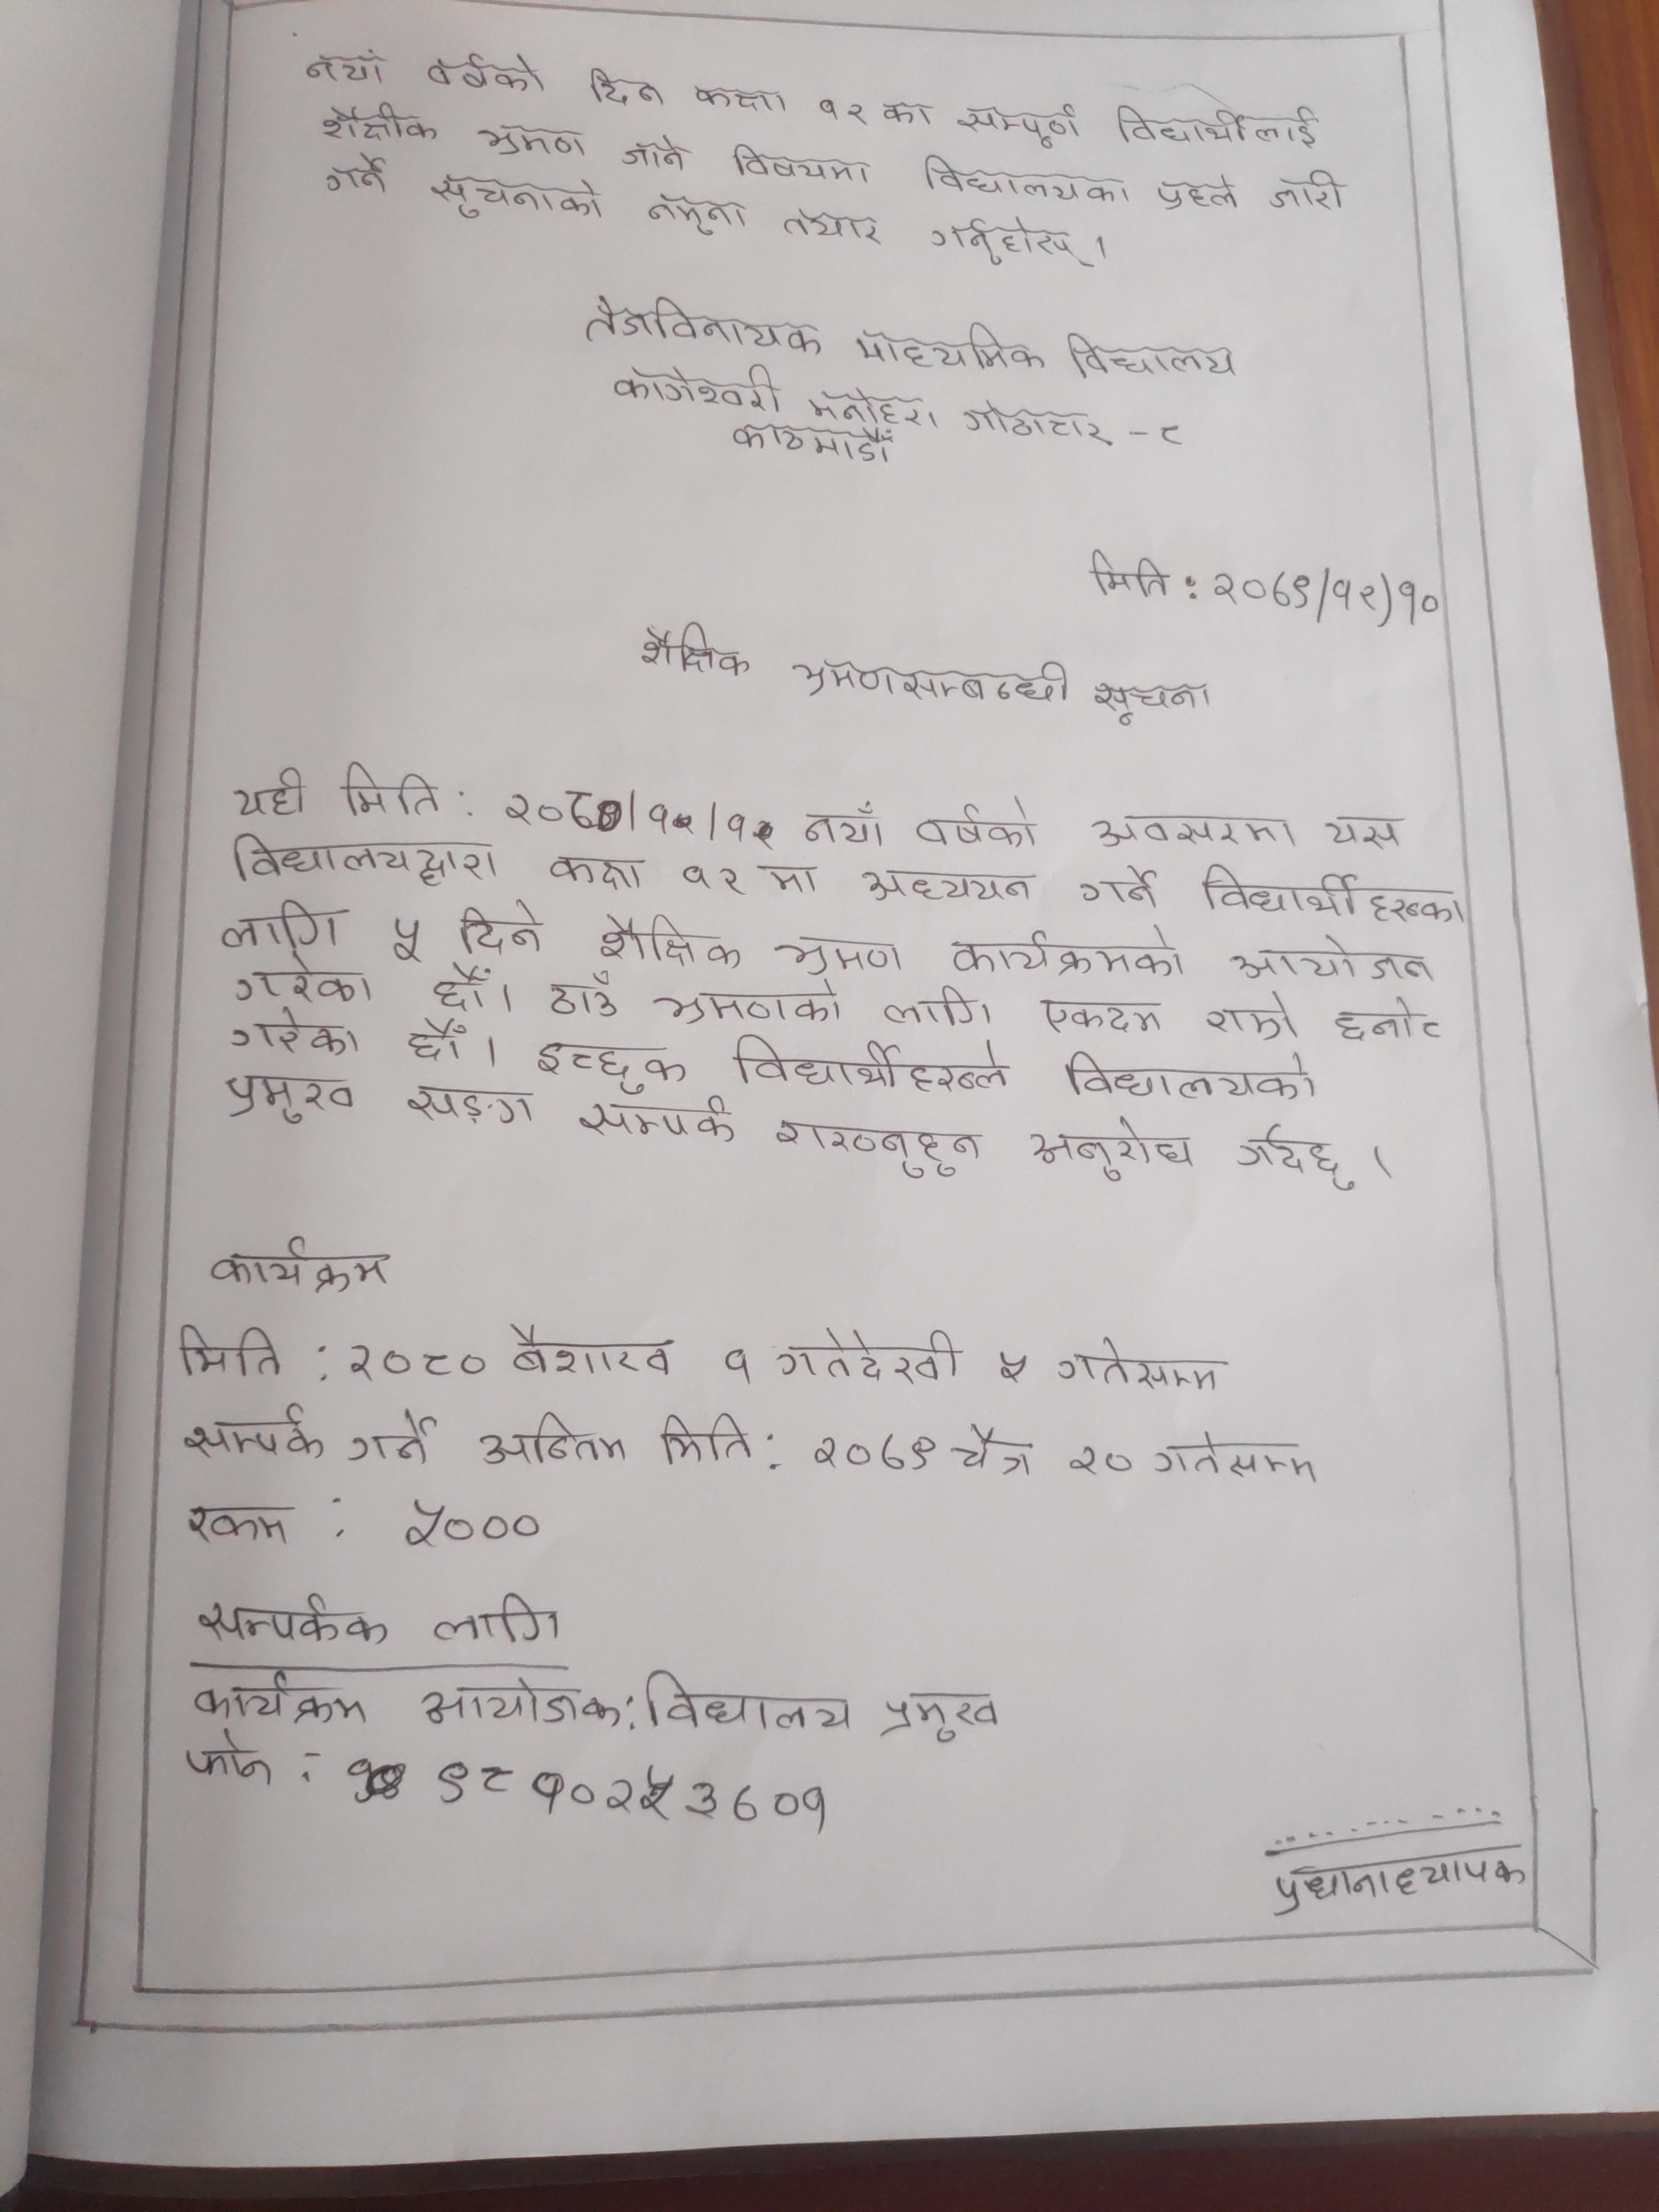text: (429, 1759, 835, 1838), (730, 1026, 1014, 1099), (1195, 860, 1466, 932), (228, 831, 498, 895), (1060, 1040, 1321, 1106), (498, 791, 775, 850), (640, 1667, 854, 1740), (793, 657, 1073, 709), (772, 1115, 981, 1184), (584, 296, 823, 357), (418, 1670, 626, 1738), (1209, 571, 1443, 631), (197, 1590, 397, 1656), (1229, 930, 1443, 991), (946, 930, 1195, 981), (917, 152, 1134, 206), (1028, 1115, 1201, 1183), (1047, 1339, 1234, 1402), (206, 1237, 399, 1296), (769, 1325, 962, 1385), (594, 904, 751, 974), (1114, 99, 1326, 150), (570, 1092, 753, 1150), (425, 165, 606, 223), (925, 214, 1098, 273), (507, 1318, 674, 1379), (652, 977, 845, 1029), (188, 1672, 369, 1728), (1060, 329, 1244, 383), (850, 322, 1046, 373), (1154, 1428, 1324, 1486), (474, 1409, 629, 1472), (1087, 810, 1297, 855), (216, 1064, 361, 1129), (606, 361, 784, 413), (179, 1404, 331, 1465), (429, 1592, 572, 1656), (530, 1036, 688, 1094), (1234, 1122, 1363, 1191), (403, 1494, 549, 1555), (727, 415, 896, 467), (957, 394, 1110, 451), (861, 864, 1042, 909), (772, 921, 903, 982), (223, 1010, 366, 1066), (875, 1689, 1002, 1750), (232, 954, 378, 1007), (169, 1320, 282, 1386), (725, 141, 873, 192), (343, 1338, 491, 1388), (911, 798, 1046, 853), (401, 1078, 547, 1129), (638, 622, 751, 685), (1093, 676, 1215, 733), (220, 895, 342, 953), (422, 47, 551, 101), (342, 758, 446, 824), (1331, 996, 1452, 1050), (457, 890, 551, 958), (652, 1409, 758, 1468), (955, 101, 1084, 150), (805, 381, 938, 428), (179, 1728, 277, 1791), (880, 982, 995, 1035), (1035, 995, 1168, 1040), (810, 1428, 938, 1475), (319, 99, 439, 146), (345, 1409, 439, 1468), (183, 1501, 300, 1548), (1086, 550, 1176, 606), (948, 1428, 1044, 1480), (643, 192, 748, 237), (230, 765, 312, 822), (1204, 996, 1298, 1045), (545, 850, 647, 894), (1075, 860, 1162, 911), (800, 799, 889, 848), (479, 122, 587, 162), (779, 206, 885, 246), (687, 78, 786, 120), (319, 148, 390, 202), (584, 64, 664, 111), (1267, 167, 1352, 211), (1065, 1440, 1143, 1487), (547, 974, 627, 1019), (1159, 171, 1244, 212), (1324, 810, 1403, 855), (620, 131, 697, 174), (301, 49, 387, 87), (406, 1019, 471, 1069), (434, 963, 493, 1017), (680, 859, 749, 904), (389, 909, 429, 968), (880, 92, 934, 132), (816, 92, 870, 131), (762, 859, 819, 894), (993, 1341, 1033, 1390), (716, 1343, 756, 1386), (1159, 421, 1188, 451)
